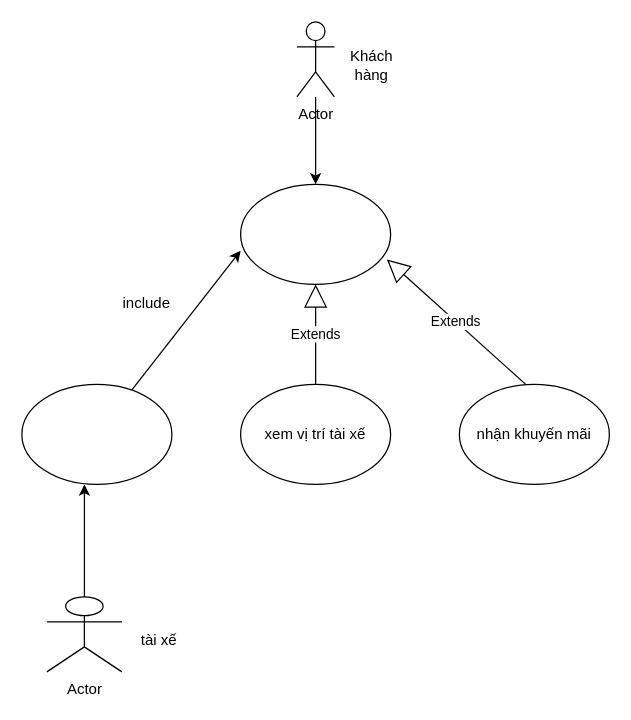
The diagram is 631 pixels wide and 720 high, and some of its shapes have lost their labels. Here are the shapes that lost their labels. From the top down, the centre of each, then its label:
At pixel 315 233: "Đặt xe".
At pixel 96 433: "Thanh toán (Hệ thống TT)".
